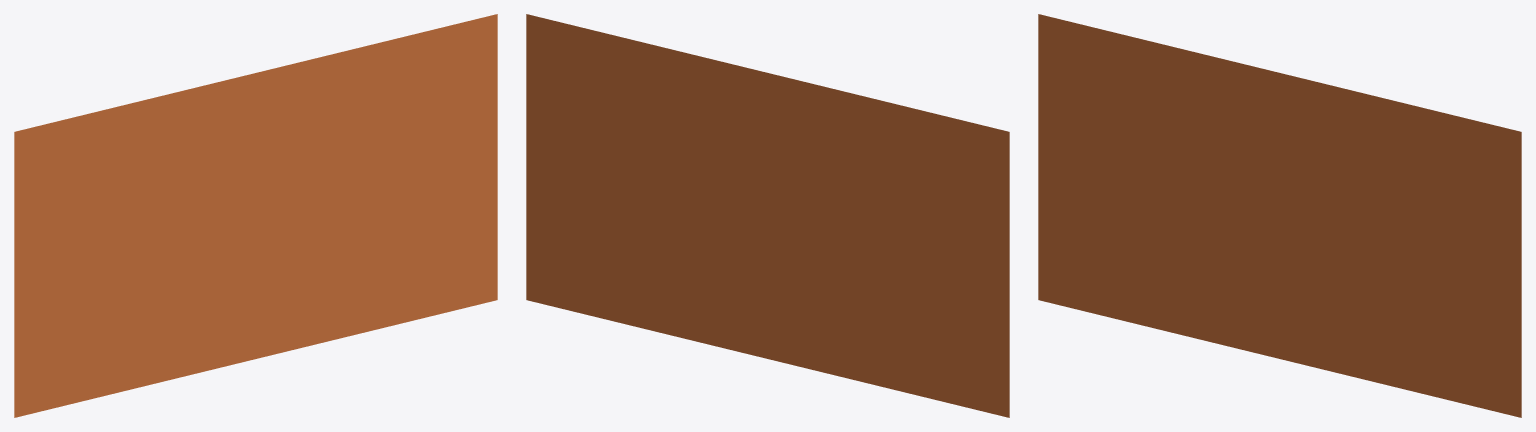
The model's file is open_eyes.dae.
3 views of the same model, side by side, from view 1: azimuth 30°, elevation 25°; view 2: azimuth 150°, elevation 25°; view 3: azimuth 330°, elevation 25° (orthographic).
Visible parts, largest first — view 1: Plane; view 2: Plane; view 3: Plane.
Part boxes in pixels (left/top/right/bottom): Plane: left=14, top=14, right=497, bottom=417; Plane: left=526, top=14, right=1009, bottom=417; Plane: left=1038, top=14, right=1521, bottom=417.
Bounding box in the file's own units: 13.93 × 3.45e-07 × 7.88.
